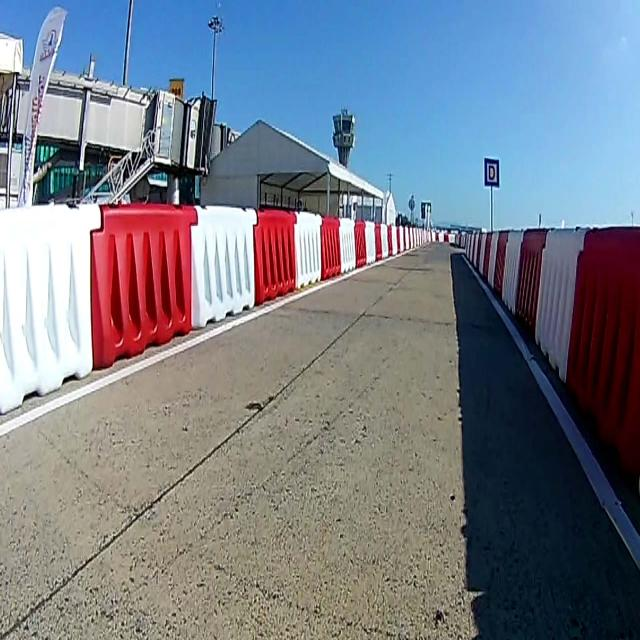durak: (483, 156, 500, 186)
